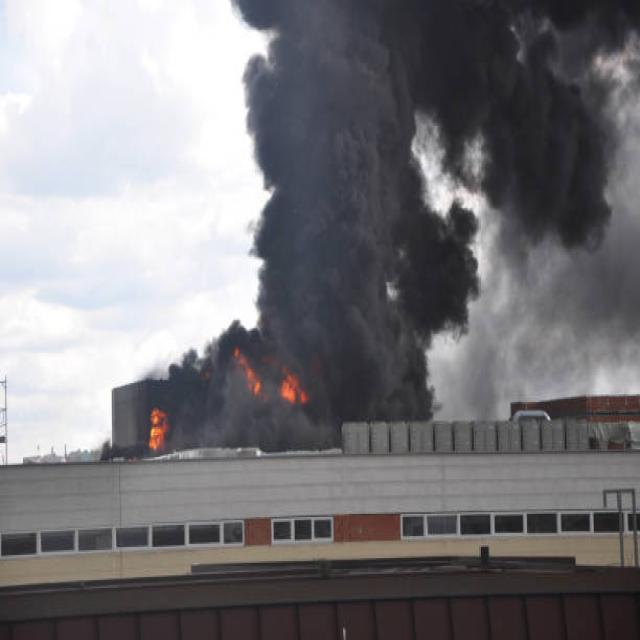Fire: (206, 294, 309, 414)
Smoke: (243, 0, 640, 407), (144, 338, 348, 450)
